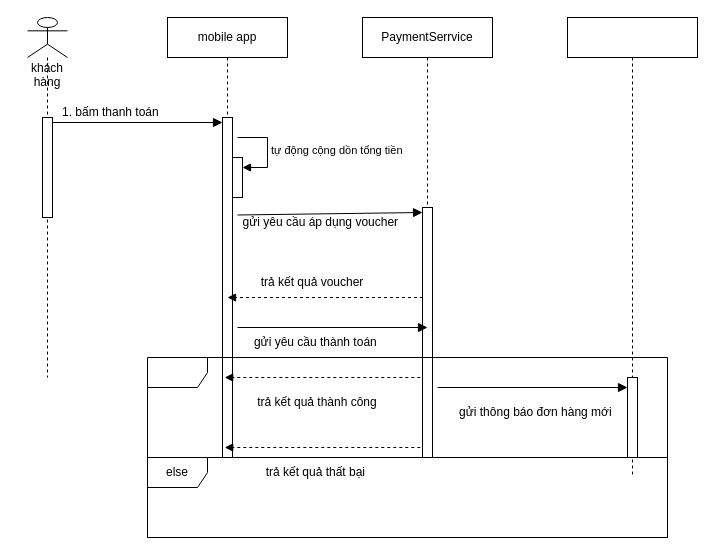
Some shapes in this 715 by 555 pixel diagram are drawn without their labels. The box of each missing label's shape, as (x1, y1, x2, y2) in pixels:
alt: (146, 356, 668, 538)
NotificationService: (566, 16, 698, 478)
